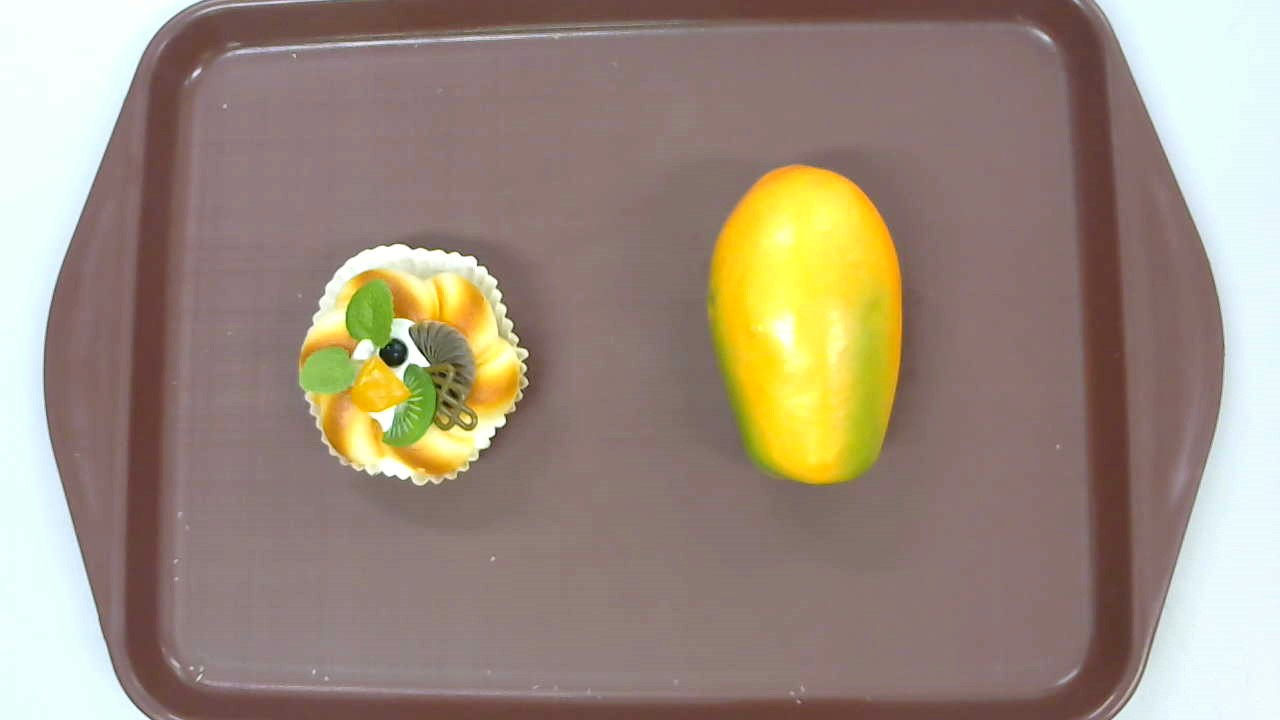fruit tart: (297, 242, 532, 486)
papya: (707, 164, 902, 484)
